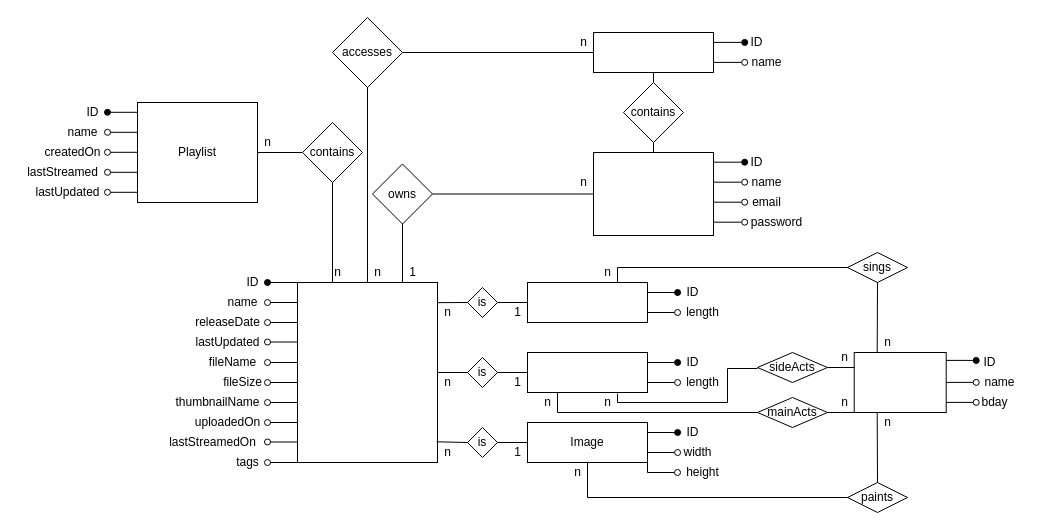
The diagram is 1041 pixels wide and 530 high, and some of its shapes have lost their labels. Here are the shapes that lost their labels. From the top down, the centre of each, then its label:
At point (653, 52): "Role".
At point (653, 194): "User".
At point (587, 302): "Music".
At point (367, 372): "Media".
At point (587, 372): "Film".
At point (899, 382): "Artist".
